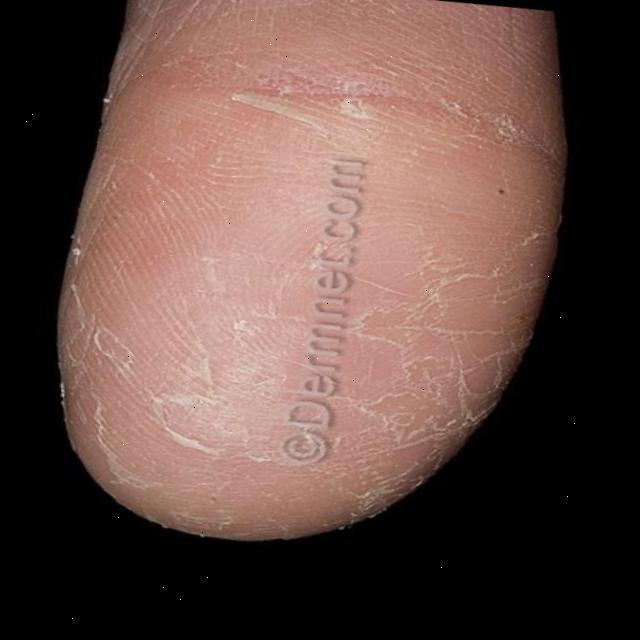Eczema: (72, 58, 578, 551)
